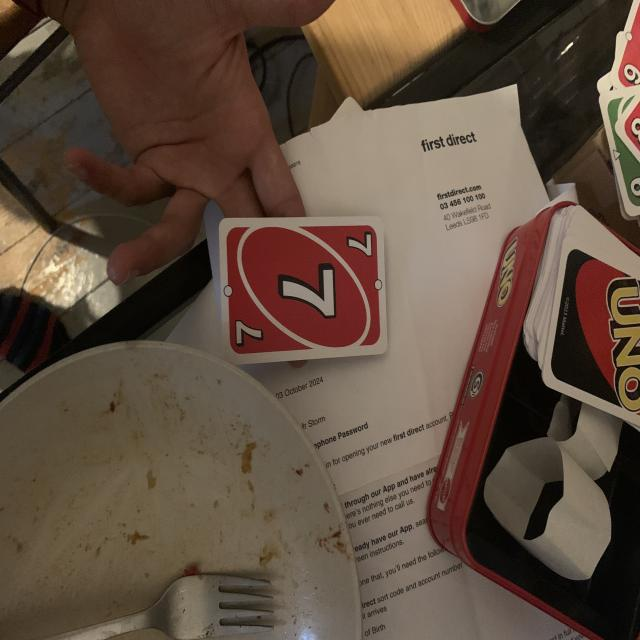lred-7: (232, 315, 266, 349)
